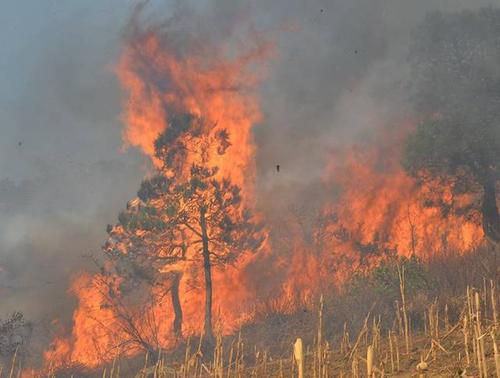fire: (140, 60, 251, 328), (329, 166, 483, 256), (69, 282, 137, 363)
smoke: (2, 12, 117, 244), (268, 10, 397, 163)
